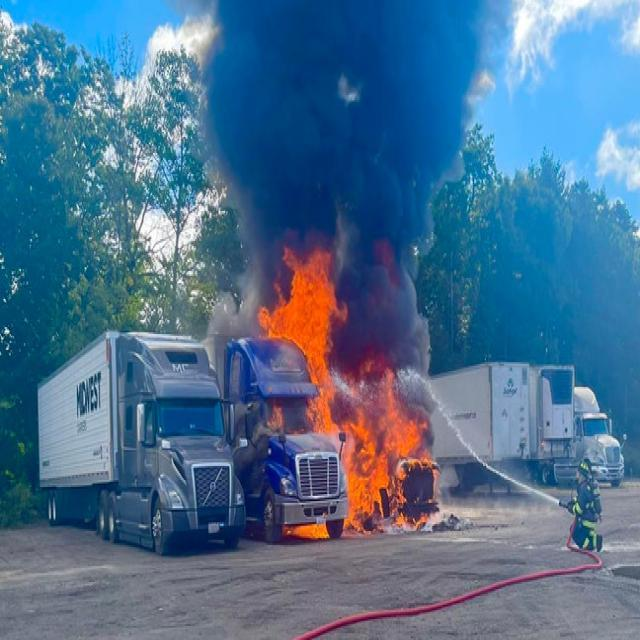Fire: (258, 239, 436, 539)
Smoke: (208, 0, 496, 409)
